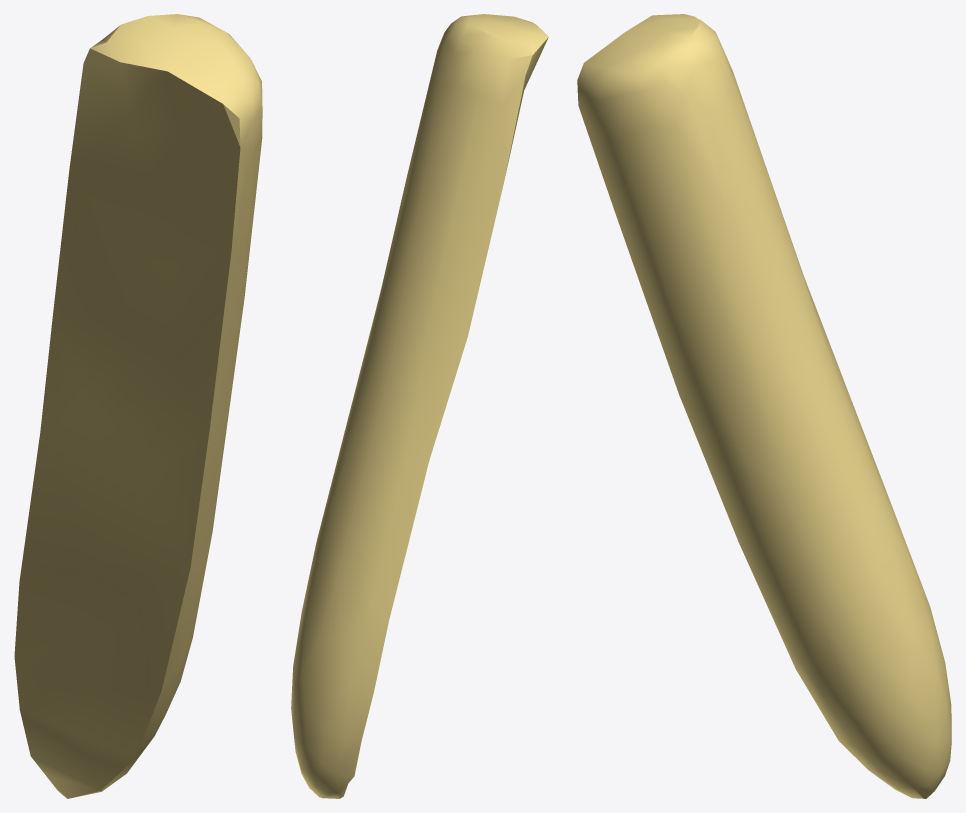
File: fma73733_mm2704m.glb
The picture shows the model from 3 angles, left to right: view 1: azimuth 30°, elevation 25°; view 2: azimuth 150°, elevation 25°; view 3: azimuth 270°, elevation 25°; orthographic projection. The views are drawn at different scales.
Visible parts, largest first — view 1: FMA73733_MM2704M; view 2: FMA73733_MM2704M; view 3: FMA73733_MM2704M.
Boxes of the visible parts, x1=… form: FMA73733_MM2704M: x1=14, y1=14, x2=262, y2=798; FMA73733_MM2704M: x1=291, y1=14, x2=548, y2=798; FMA73733_MM2704M: x1=577, y1=14, x2=951, y2=798.
Bounding box in the file's own units: 0.00321 × 0.0146 × 0.00668.
